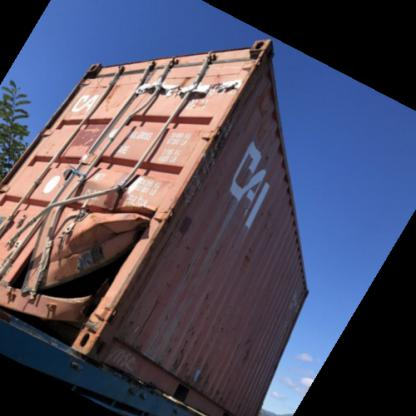Damage: (27, 79, 175, 325), (235, 318, 262, 369)
